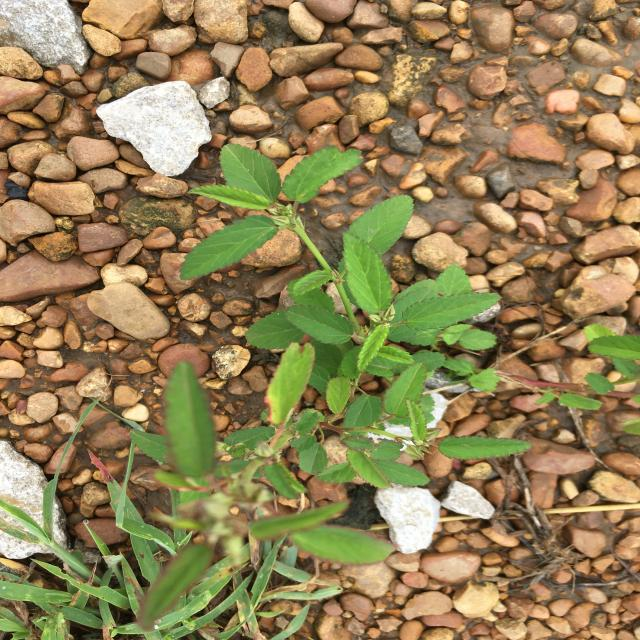PricklySida: (138, 143, 640, 631)
